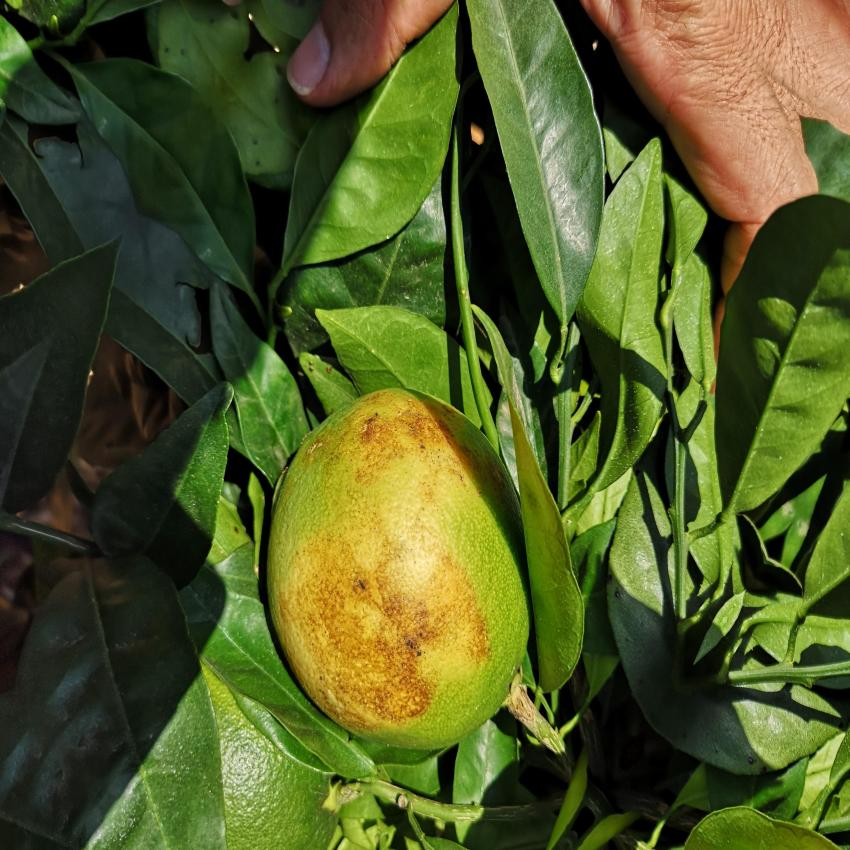Mal estado: (245, 358, 550, 764)
